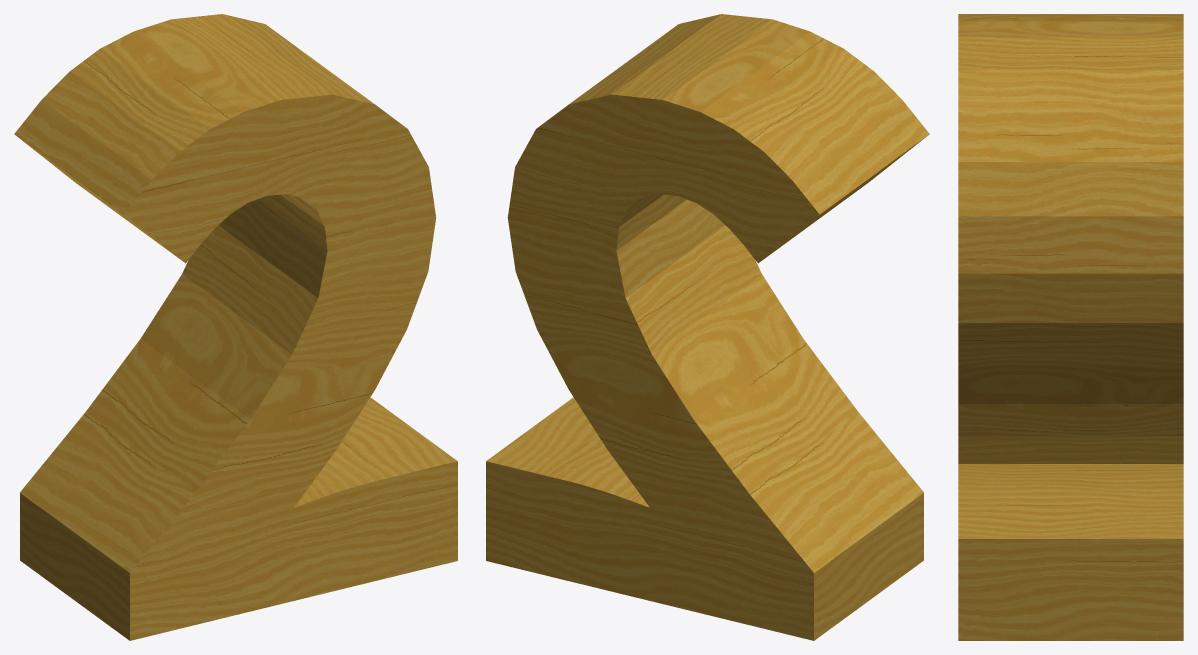
The model's file is MounTripElement_2.glb.
3 views of the same model, side by side, from view 1: azimuth 30°, elevation 25°; view 2: azimuth 150°, elevation 25°; view 3: azimuth 270°, elevation 25° (orthographic). The views are drawn at different scales.
Parts seen in each view (by area): view 1: 3D 2 - 2; view 2: 3D 2 - 2; view 3: 3D 2 - 2.
Part boxes in pixels (x1,y1,x2,y2): 3D 2 - 2: (14, 14, 457, 640); 3D 2 - 2: (486, 14, 929, 640); 3D 2 - 2: (958, 14, 1183, 640).
Bounding box in the file's own units: 0.0262 × 0.0379 × 0.015.
Materials: 1 (1 with a texture image).
